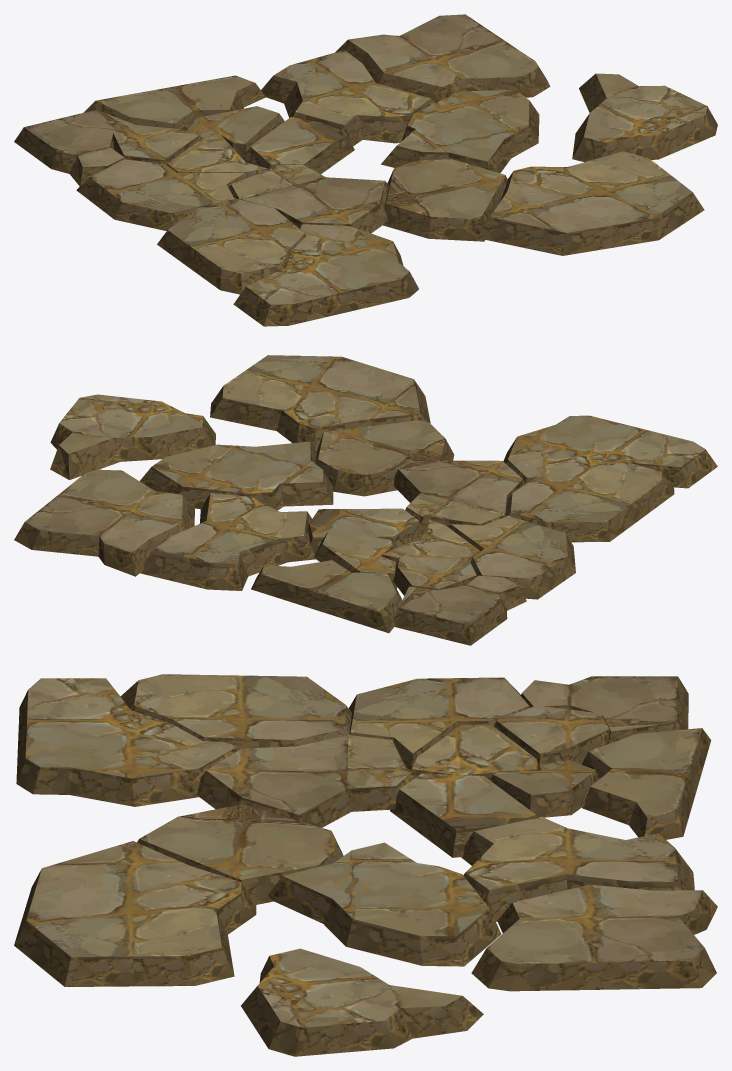
The model's file is lv7_wujian_1.FBX.
3 views of the same model, one above another, from view 1: azimuth 30°, elevation 25°; view 2: azimuth 150°, elevation 25°; view 3: azimuth 270°, elevation 25° (orthographic). The views are drawn at different scales.
Parts seen in each view (by area): view 1: lv7_wujian_1; view 2: lv7_wujian_1; view 3: lv7_wujian_1.
Boxes of the visible parts, left/top/right/bottom form: lv7_wujian_1: left=14, top=14, right=717, bottom=326; lv7_wujian_1: left=14, top=355, right=717, bottom=645; lv7_wujian_1: left=14, top=674, right=717, bottom=1056.
Size of the model in its own units: 1022 by 53.96 by 857.
